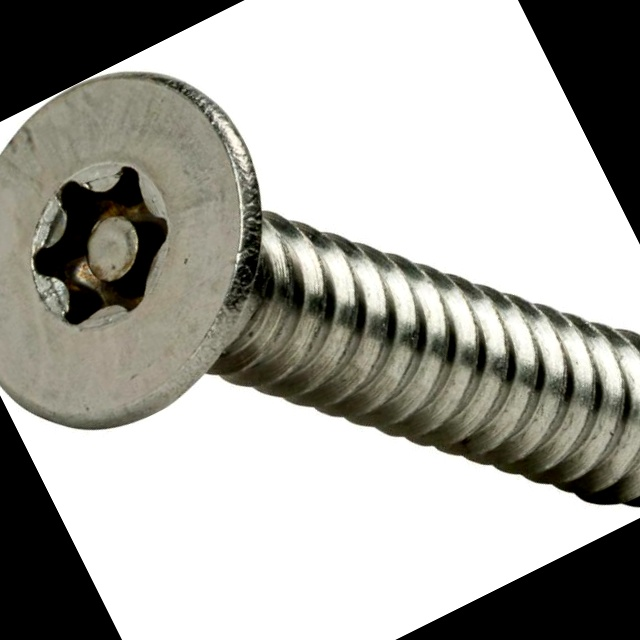torx: (0, 29, 337, 471)
